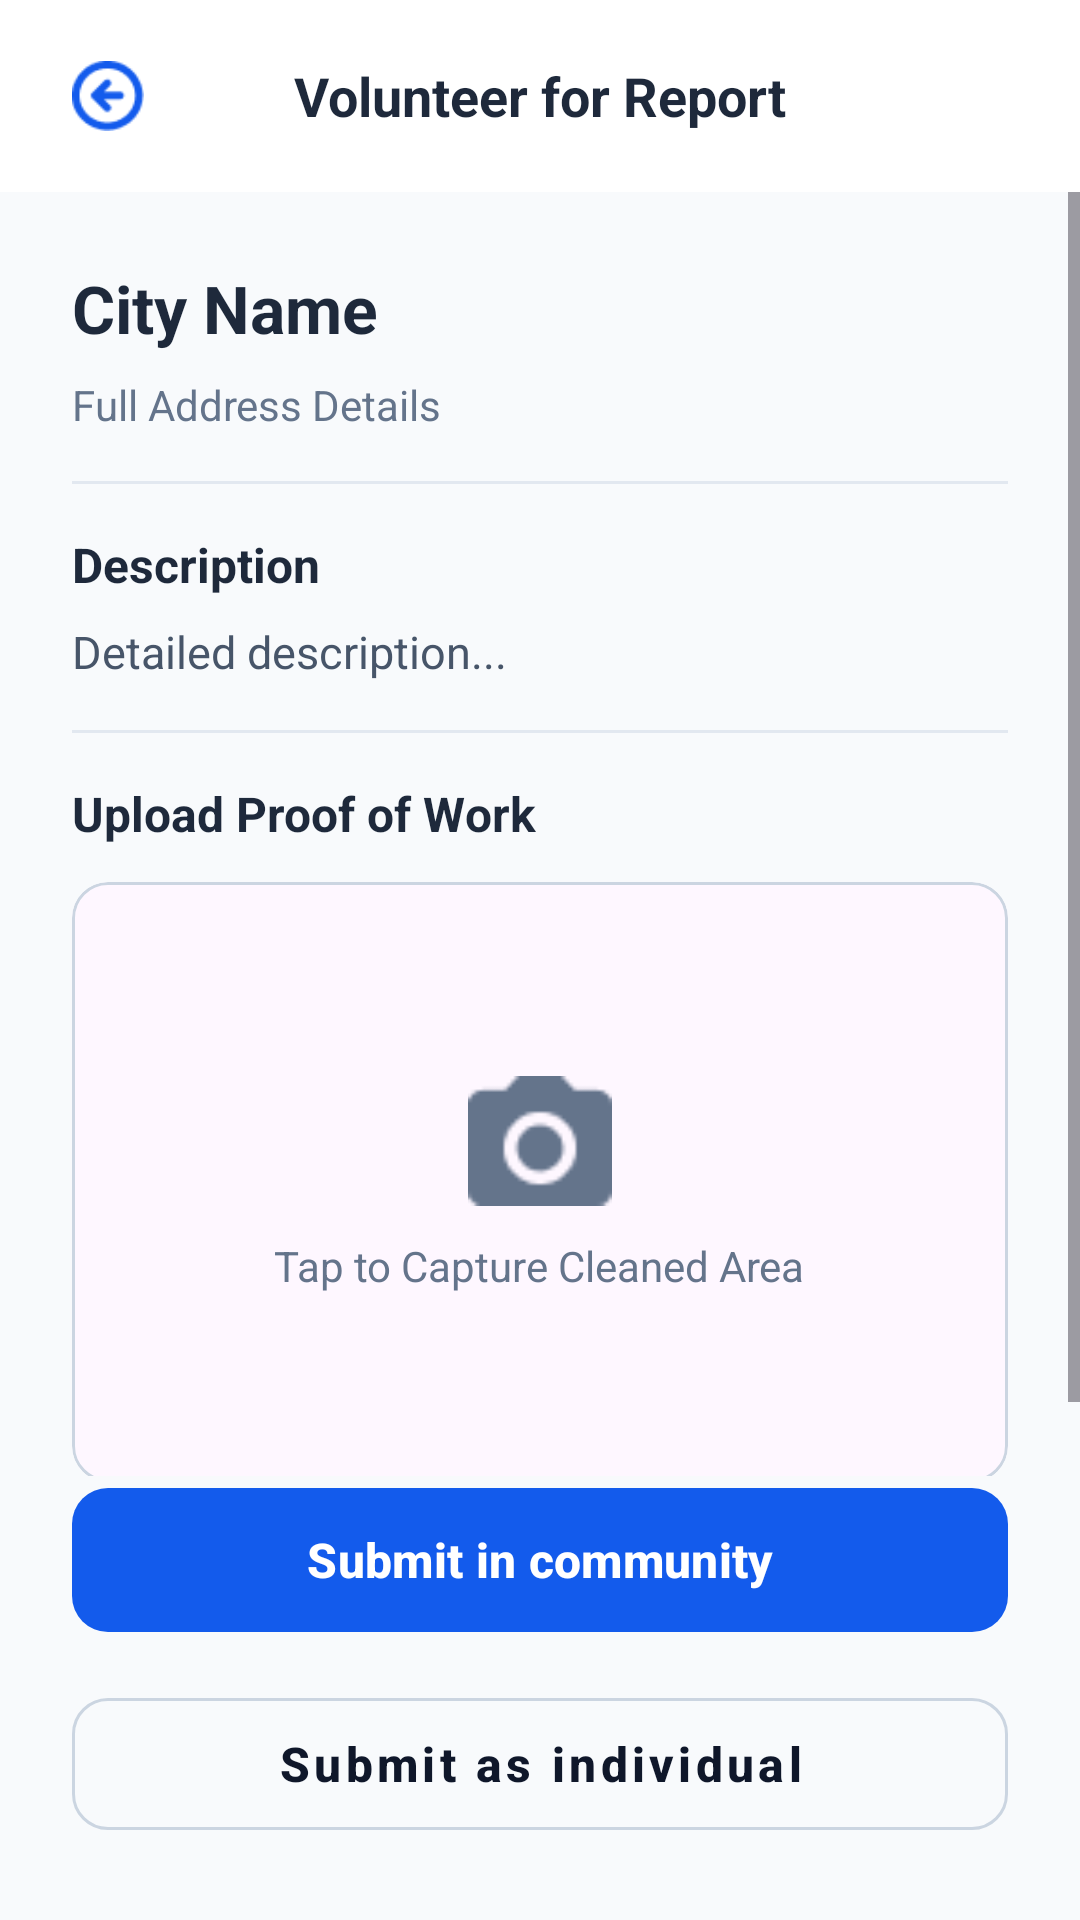

Where to tap for icons on this 1080px x 1920px app screen, as [x,y]:
back: [108,96]
camera: [540,1141]
